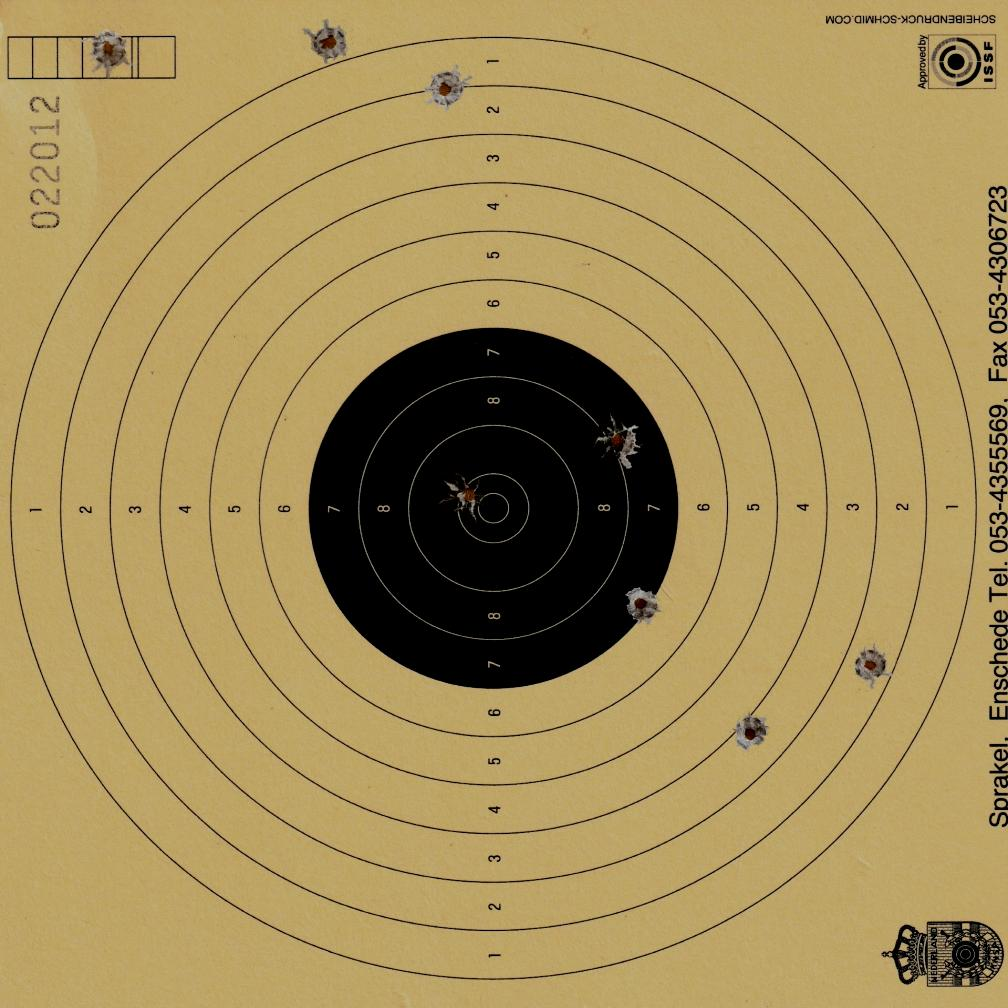0: (84, 29, 137, 80), (301, 15, 350, 66)
10: (437, 470, 487, 522)
2: (424, 62, 473, 112), (852, 644, 895, 691)
4: (729, 708, 775, 752)
7: (624, 587, 662, 626)
8: (588, 410, 650, 470)
Target: (6, 34, 982, 984)
black_contour: (307, 326, 678, 689)
